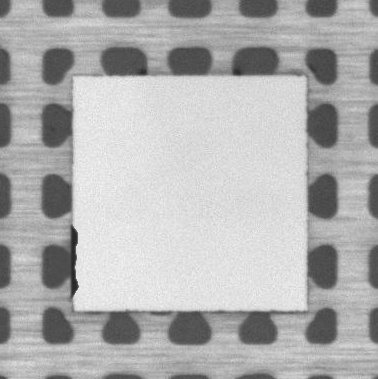DIE_BROKEN: (68, 223, 81, 299)
